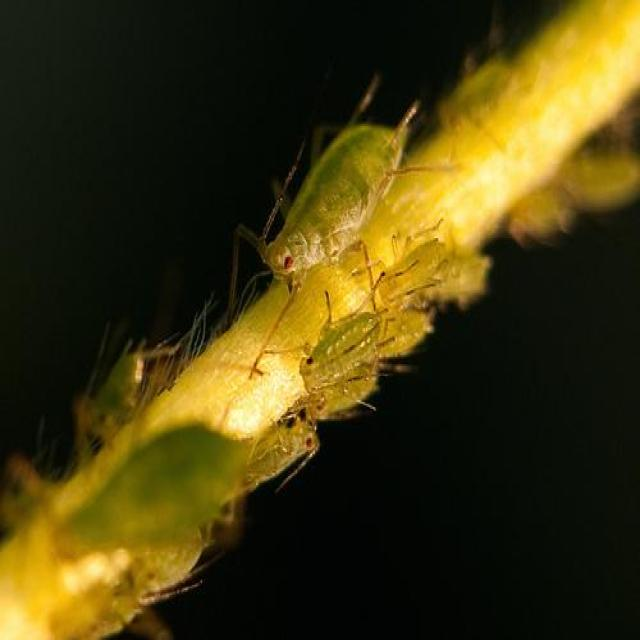Aphids: (216, 93, 421, 319)
